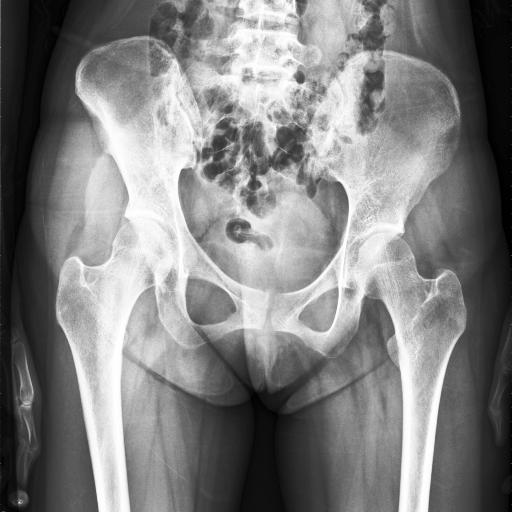normal: (55, 218, 173, 451), (355, 232, 467, 447)
